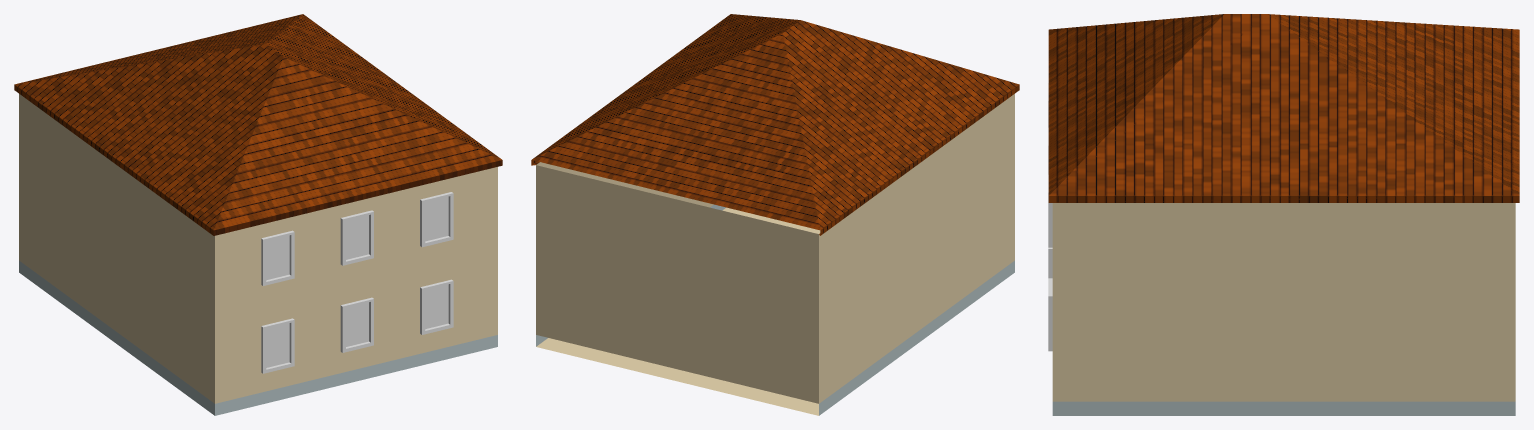
Rendered from predio 1 .fbx.
3 views of the same model, side by side, from view 1: azimuth 30°, elevation 25°; view 2: azimuth 150°, elevation 25°; view 3: azimuth 270°, elevation 25° (orthographic). The views are drawn at different scales.
Parts seen in each view (by area): view 1: if.014, if.013, if.007; view 2: if.014, if.013; view 3: if.014, if.013, if.007.
Part boxes in pixels (x1,y1,x2,y2): if.014: (19, 94, 497, 415); if.013: (14, 14, 502, 235); if.007: (261, 192, 453, 373); if.014: (536, 94, 1014, 415); if.013: (531, 14, 1019, 235); if.014: (1052, 203, 1515, 415); if.013: (1048, 14, 1519, 202); if.007: (1048, 83, 1052, 351).
Bounding box in the file's own units: 1698 × 1524 × 2033.
3 materials, 1 textured.
